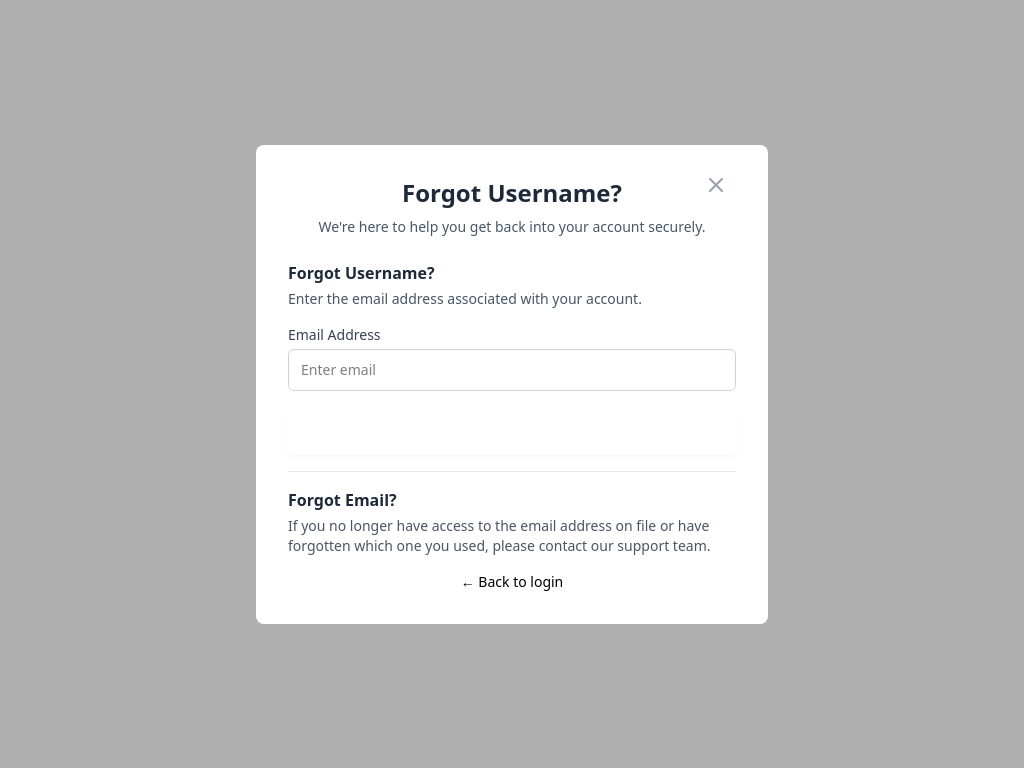
Test: ForgotUsernameForm Component › shows checking-email spinner while validation request is in progress
This screenshot has width=1024, height=768.
In the field with placeholder "Enter email": (512, 370) left=288, top=348, right=736, bottom=390, type "pending@example.com"
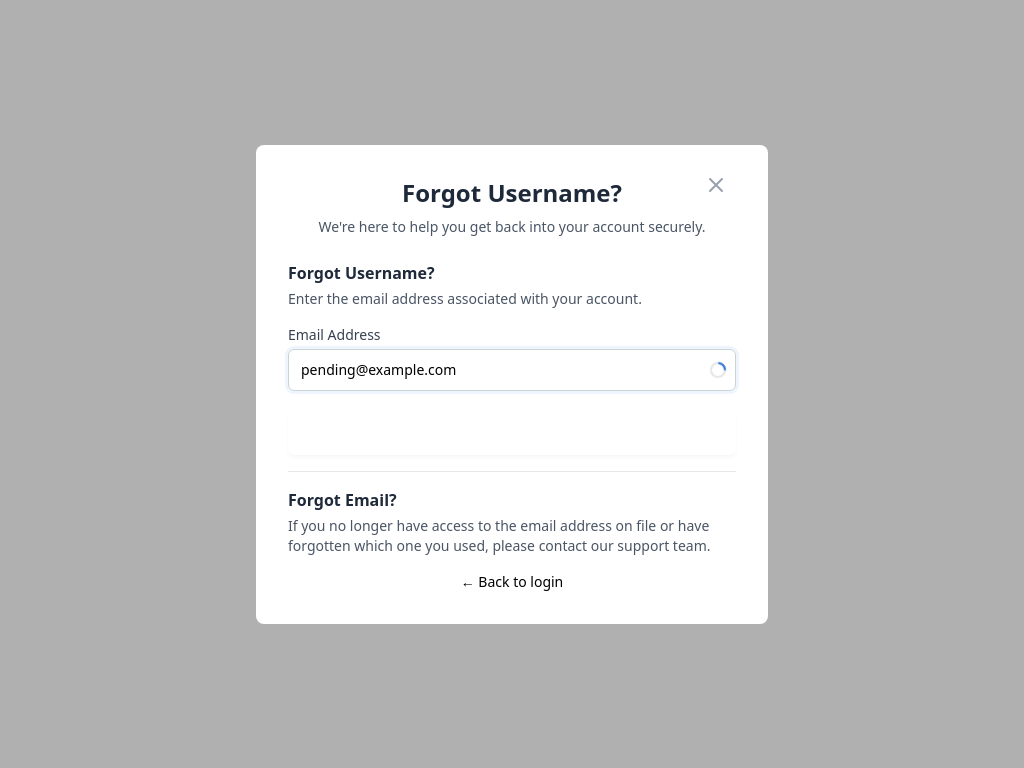
Expected: the message labelled "Loading..." is shown, left=707, top=358, right=729, bottom=381
